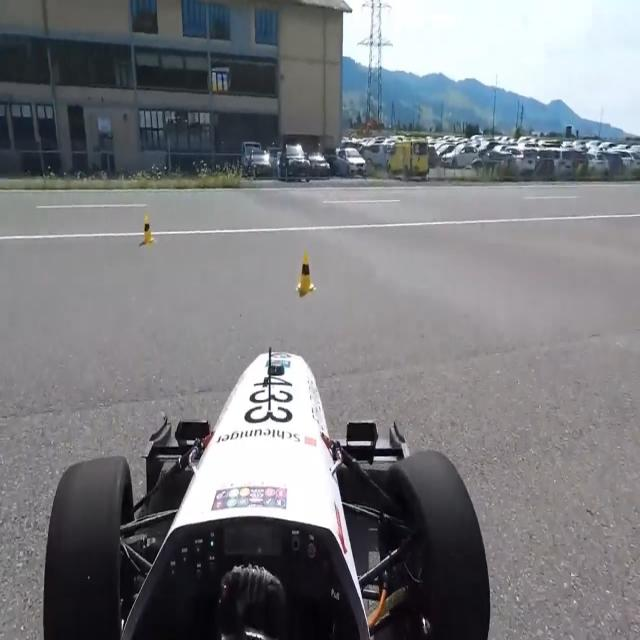yellow_cone: (296, 253, 316, 295), (141, 214, 155, 246)
